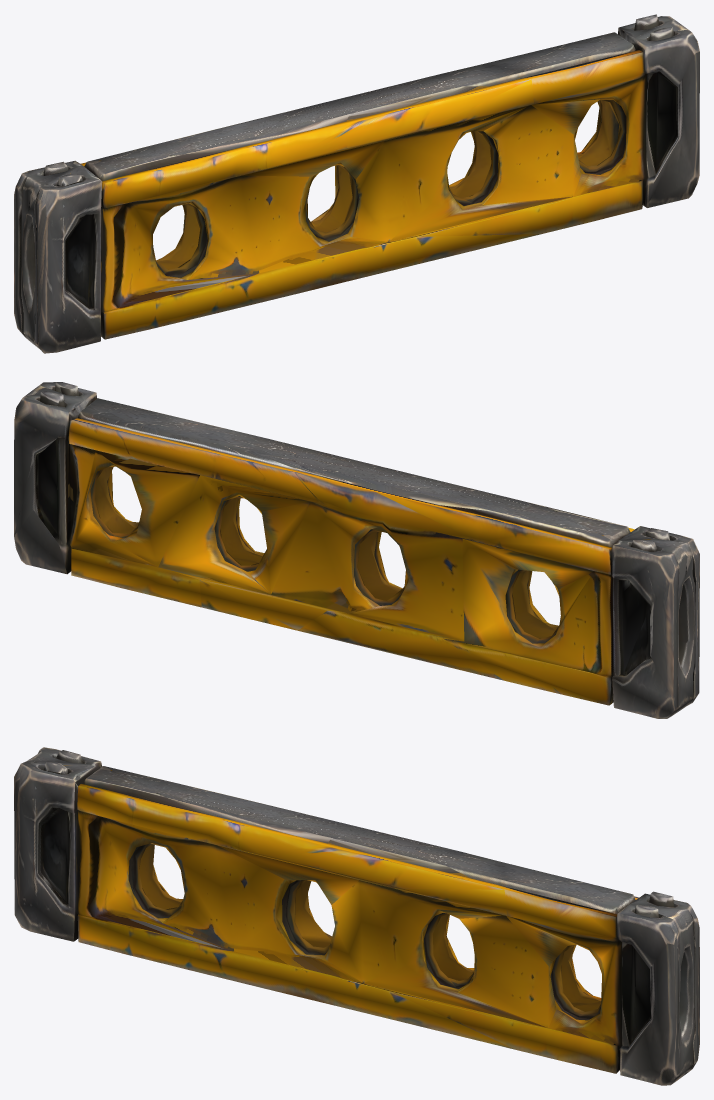
Rendered from plank_beam_01.glb.
3 renders of one model, top to bottom at view 1: azimuth 30°, elevation 25°; view 2: azimuth 150°, elevation 25°; view 3: azimuth 330°, elevation 25°, orthographic.
Parts seen in each view (by area): view 1: plank_beam_01; view 2: plank_beam_01; view 3: plank_beam_01.
Part boxes in pixels (box(x1,y1,x2,y2)): plank_beam_01: box(14, 14, 699, 353); plank_beam_01: box(14, 382, 699, 718); plank_beam_01: box(14, 747, 699, 1085).
Size of the model in its own units: 8 by 1.99 by 0.5907.
1 material, 1 textured.
